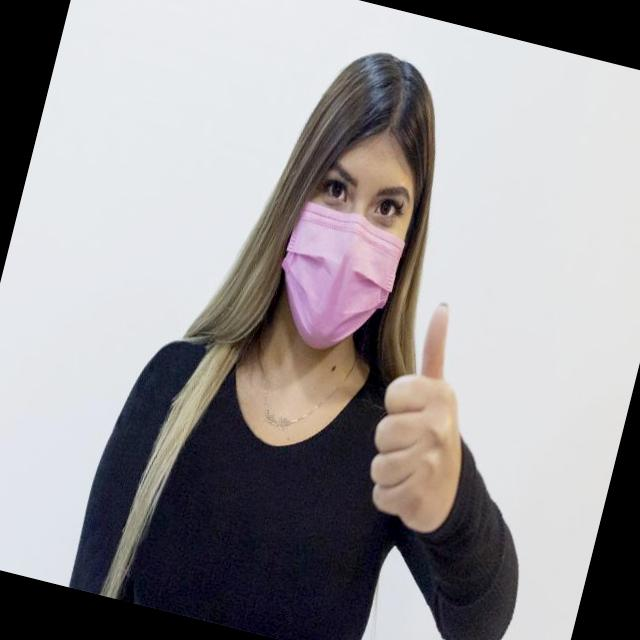person: (65, 7, 638, 640)
